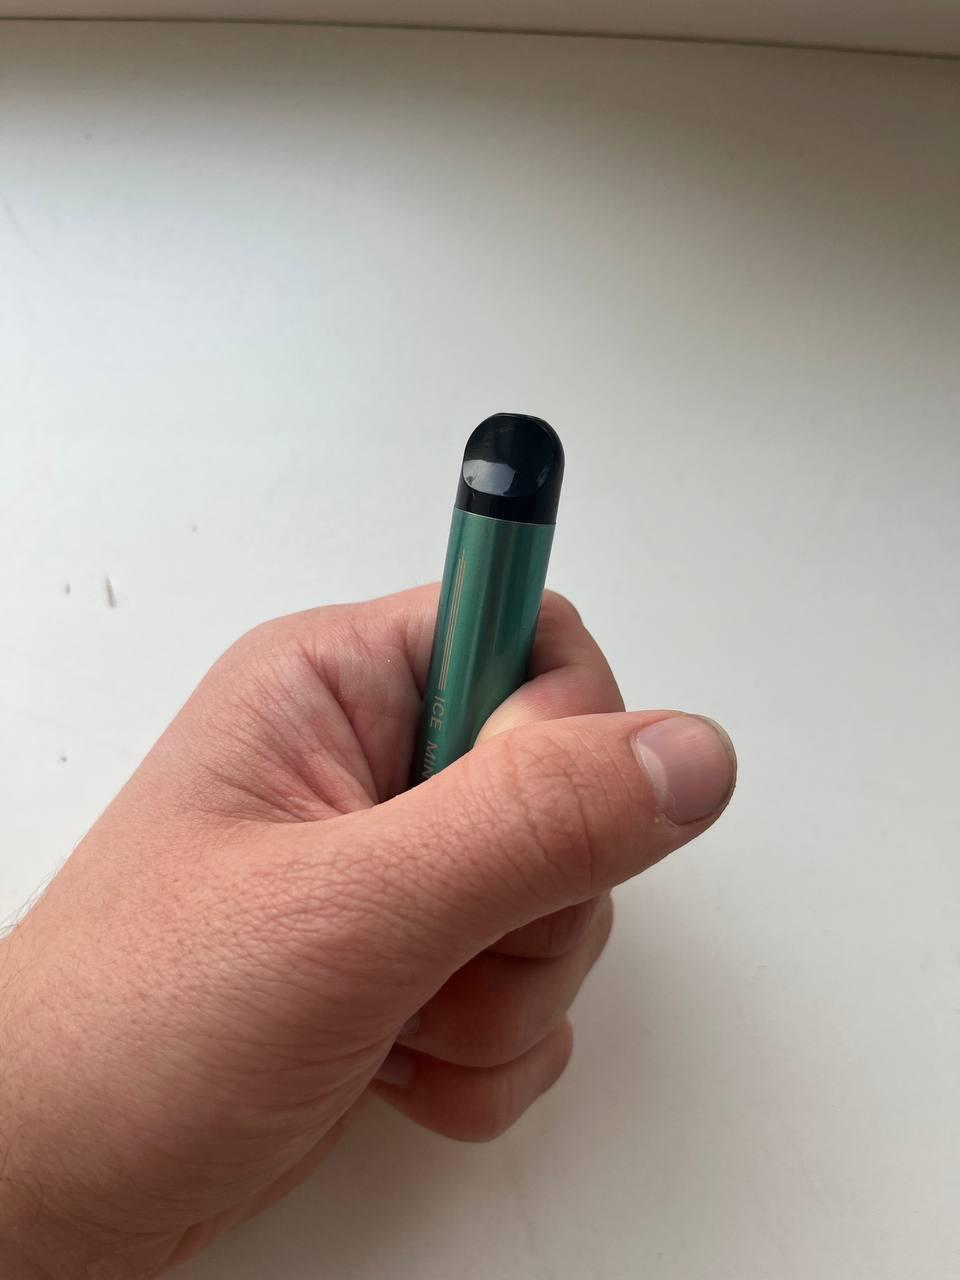Vape: (410, 414, 564, 785)
